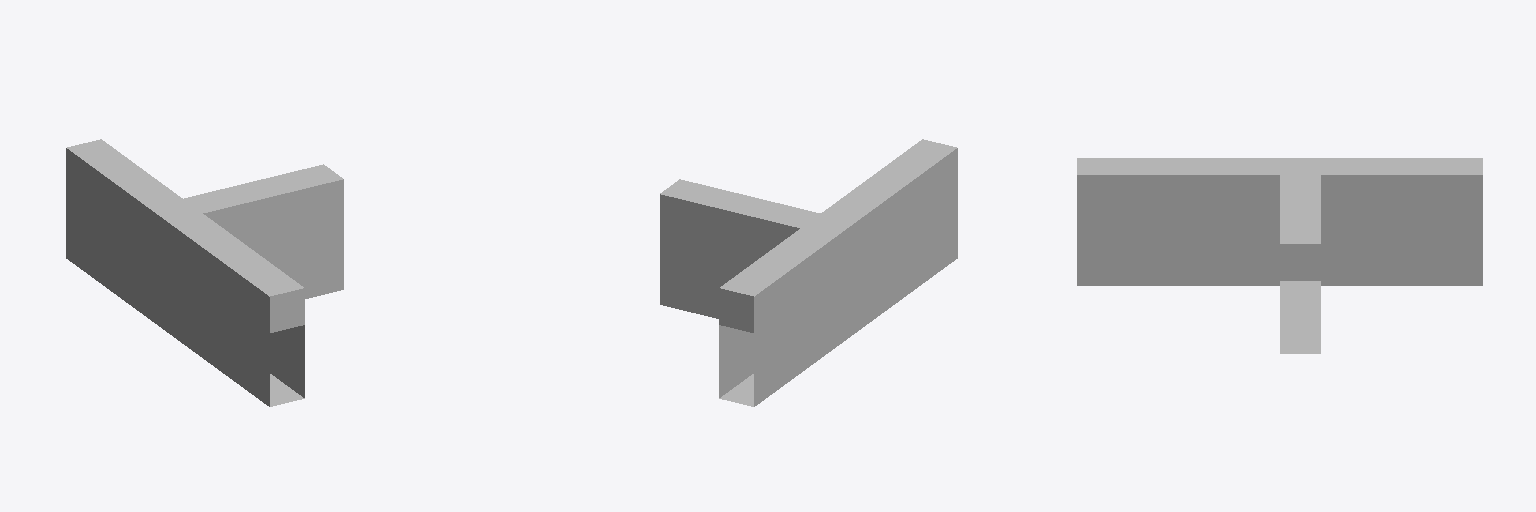
File: TShape-hallway.obj
The picture shows the model from 3 angles: view 1: azimuth 30°, elevation 25°; view 2: azimuth 150°, elevation 25°; view 3: azimuth 270°, elevation 25°; orthographic projection.
Parts seen in each view (by area): view 1: TShape-hallway; view 2: TShape-hallway; view 3: TShape-hallway.
Boxes of the visible parts, x1,y1,x2,y2 form: TShape-hallway: [66, 139, 343, 406]; TShape-hallway: [660, 139, 957, 406]; TShape-hallway: [1077, 158, 1482, 353].
Bounding box in the file's own units: 40 × 24 × 80.